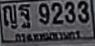2: (52, 1, 62, 24)
3: (77, 0, 88, 22), (64, 1, 75, 22)
9: (38, 2, 49, 23)
A13: (3, 4, 16, 26)
A16: (18, 4, 30, 26)
BKK: (12, 28, 82, 43)
